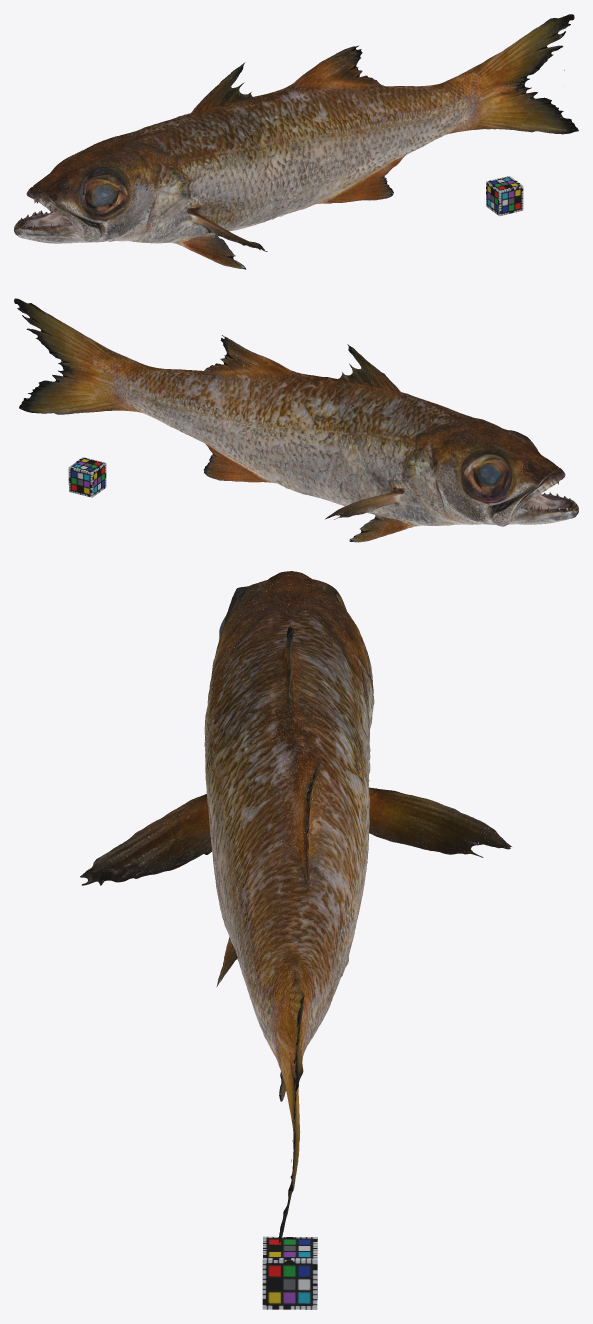
File: kuromutsu.glb
3 views of the same model, one above another, from view 1: azimuth 30°, elevation 25°; view 2: azimuth 150°, elevation 25°; view 3: azimuth 270°, elevation 25° (orthographic). The views are drawn at different scales.
Visible parts, largest first — view 1: Q11672-1all-2_5, Cube_2; view 2: Q11672-1all-2_5, Cube_2; view 3: Q11672-1all-2_5, Cube_2.
Part boxes in pixels (box(x1,y1,x2,y2)): Q11672-1all-2_5: box(14, 14, 578, 269); Cube_2: box(486, 176, 523, 216); Q11672-1all-2_5: box(14, 298, 578, 542); Cube_2: box(68, 457, 106, 497); Q11672-1all-2_5: box(80, 571, 511, 1242); Cube_2: box(262, 1236, 317, 1309).
Bounding box in the file's own units: 13.07 × 4.66 × 4.36.
3 materials, 3 textured.
